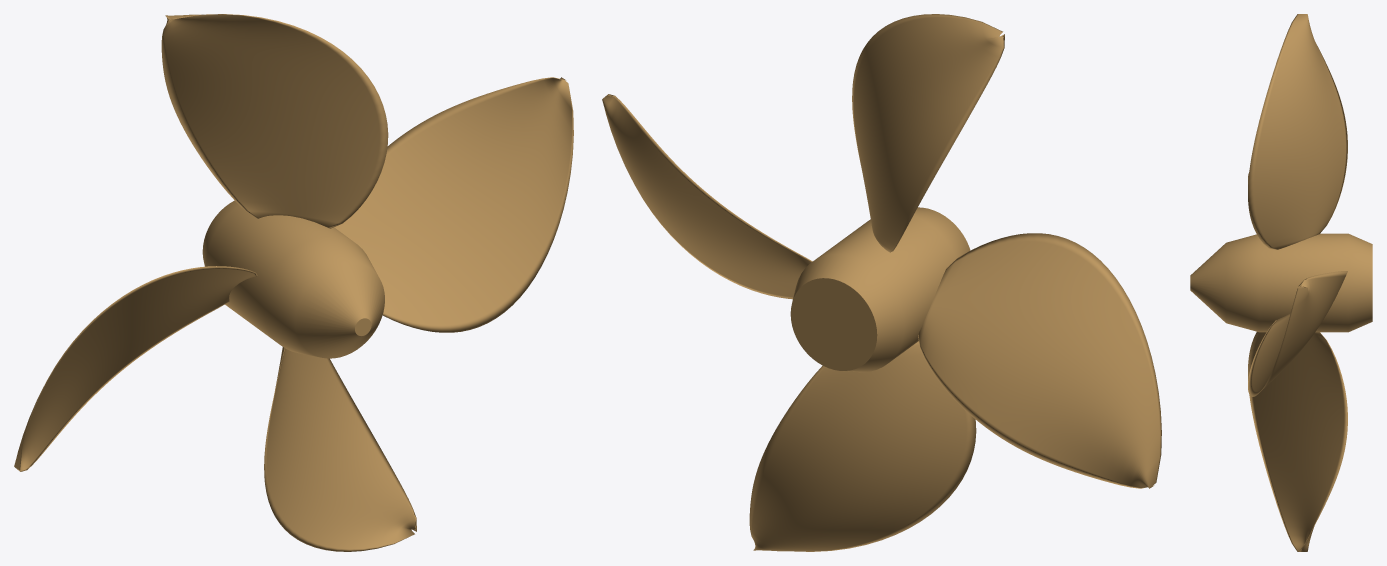
Rendered from propeller_2600.glb.
3 views of the same model, side by side, from view 1: azimuth 30°, elevation 25°; view 2: azimuth 150°, elevation 25°; view 3: azimuth 270°, elevation 25° (orthographic). The views are drawn at different scales.
Visible parts, largest first — view 1: Skewed cast blade 1, Skewed cast blade 2, Skewed cast blade 4, Tapered bronze hub and fairing cap, Skewed cast blade 3; view 2: Skewed cast blade 3, Skewed cast blade 4, Skewed cast blade 2, Tapered bronze hub and fairing cap, Skewed cast blade 1; view 3: Skewed cast blade 2, Skewed cast blade 4, Tapered bronze hub and fairing cap, Skewed cast blade 1.
Boxes of the visible parts, x1,y1,x2,y2 form: Skewed cast blade 1: [334, 77, 573, 332]; Skewed cast blade 2: [161, 14, 388, 228]; Skewed cast blade 4: [264, 347, 416, 551]; Tapered bronze hub and fairing cap: [202, 200, 384, 358]; Skewed cast blade 3: [14, 266, 257, 471]; Skewed cast blade 3: [918, 233, 1161, 488]; Skewed cast blade 4: [749, 341, 976, 551]; Skewed cast blade 2: [852, 14, 1004, 252]; Tapered bronze hub and fairing cap: [790, 207, 970, 372]; Skewed cast blade 1: [602, 94, 812, 299]; Skewed cast blade 2: [1248, 14, 1347, 250]; Skewed cast blade 4: [1248, 332, 1347, 551]; Tapered bronze hub and fairing cap: [1190, 233, 1372, 332]; Skewed cast blade 1: [1248, 271, 1347, 396].
Size of the model in its own units: 2.39 by 2.39 by 0.8811.
